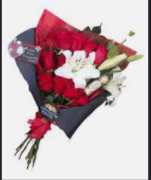RedRose: (40, 49, 58, 72), (93, 44, 109, 68), (69, 30, 86, 49)
